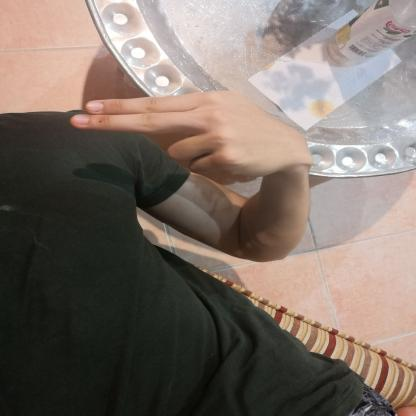AYN: (54, 79, 323, 190)
